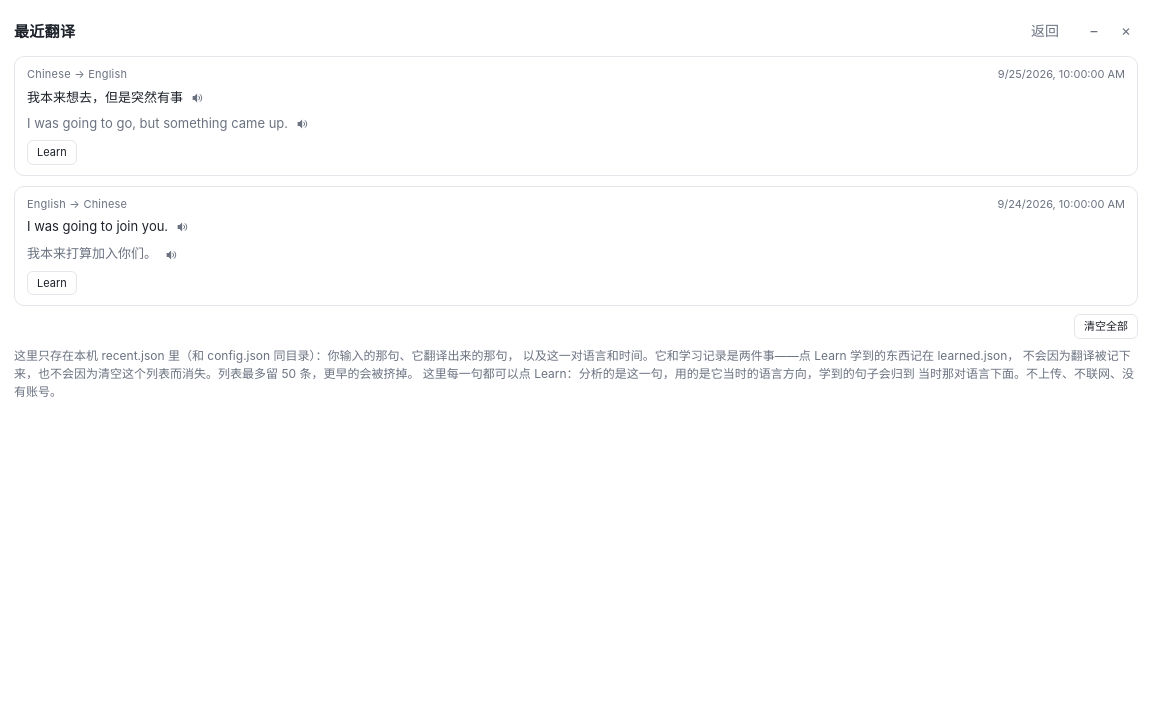
RecentTranslationsPage: learning from a row that was never learned › says why nothing was filed instead of showing a receipt
The image size is (1152, 720).
Click the button "Learn" below "Chinese → English" at (52, 153), box [27,140,77,165]
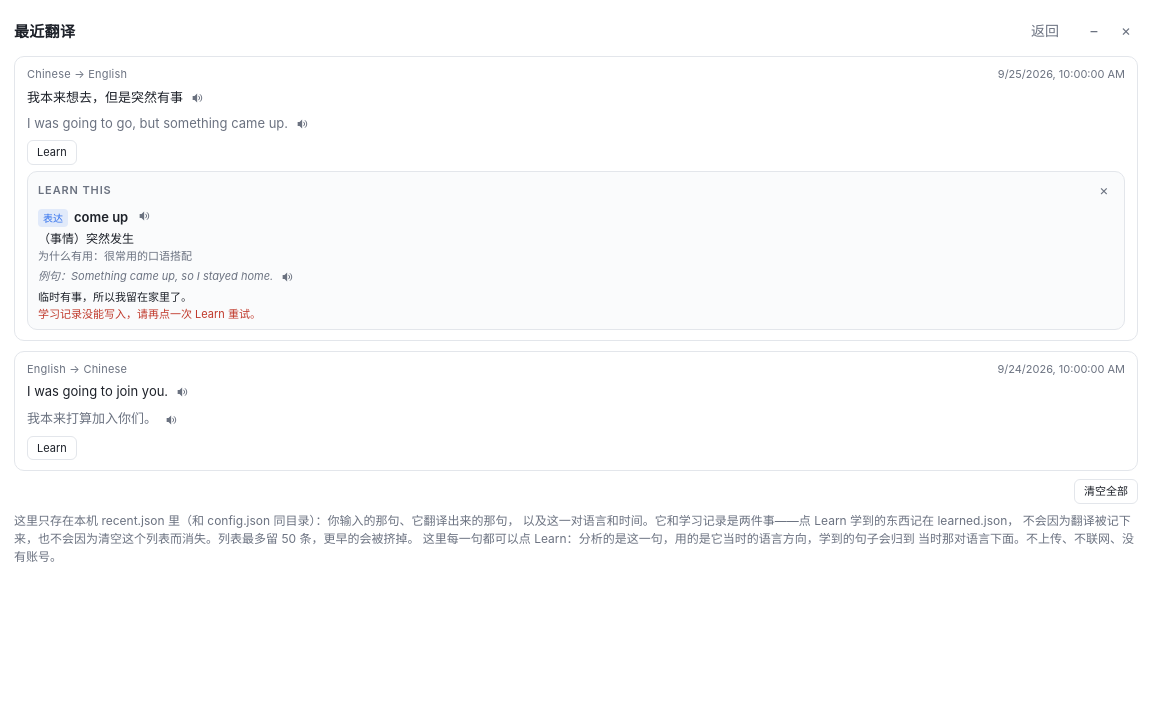
Expected: the number of buttons "Learn" is 2, [27,140,77,165]; [27,436,77,460]
Result: the text "学习记录没能写入，请再点一次 Learn 重试。" is shown at [38,305,261,321]
